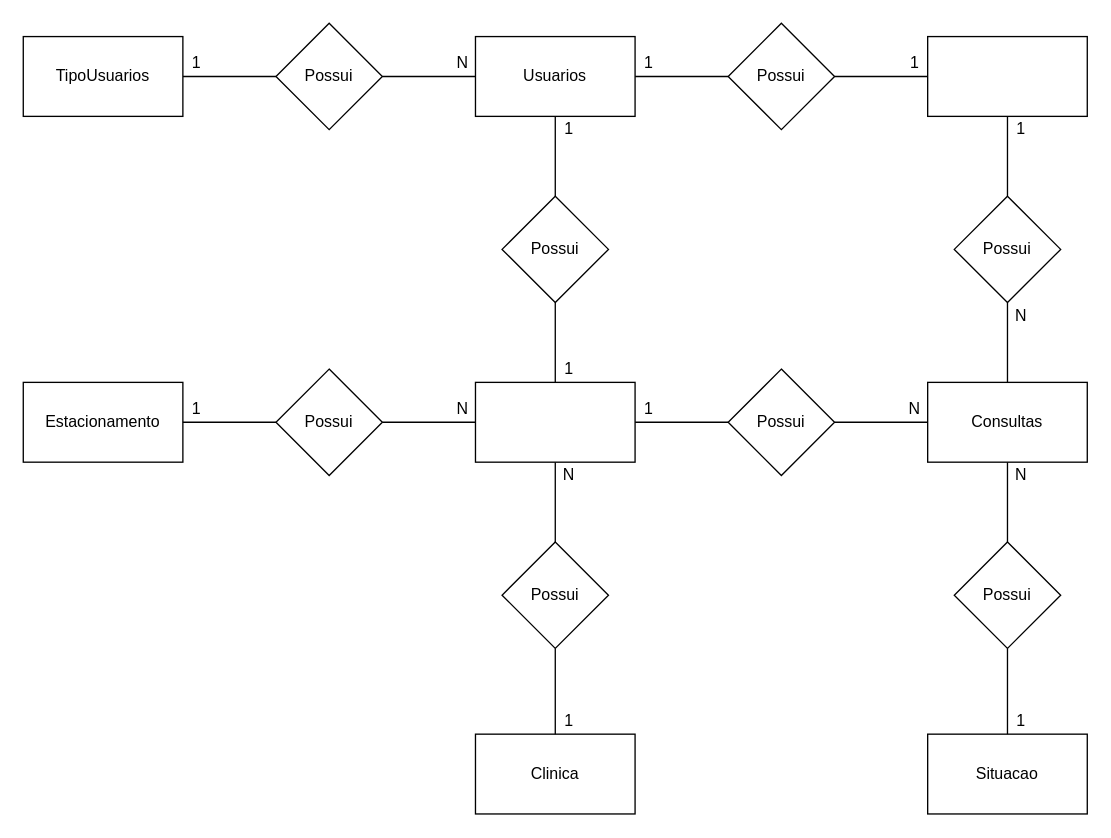
Some shapes in this 1111 by 838 pixel diagram are drawn without their labels. Each missing label, with the centre of its shape:
"Medicos" goes at point (554, 421).
"Pacientes" goes at point (1006, 75).
